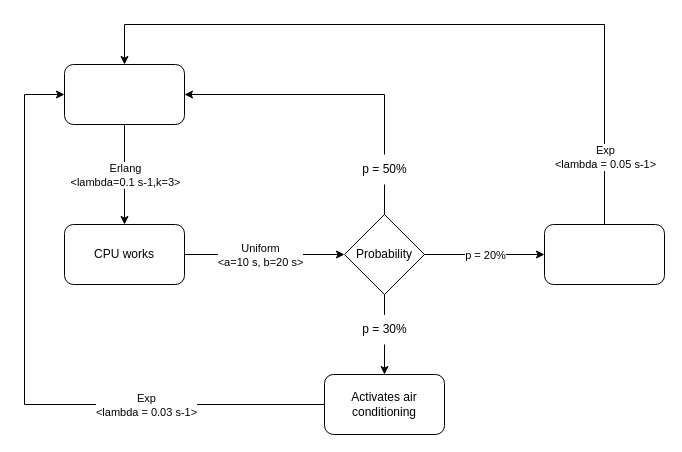
Some shapes in this 682 by 452 pixel diagram are drawn without their labels. Each missing label, with the centre of its shape:
"Activates heat pump" belongs at point (604, 254).
"Sense the room" belongs at point (124, 94).
